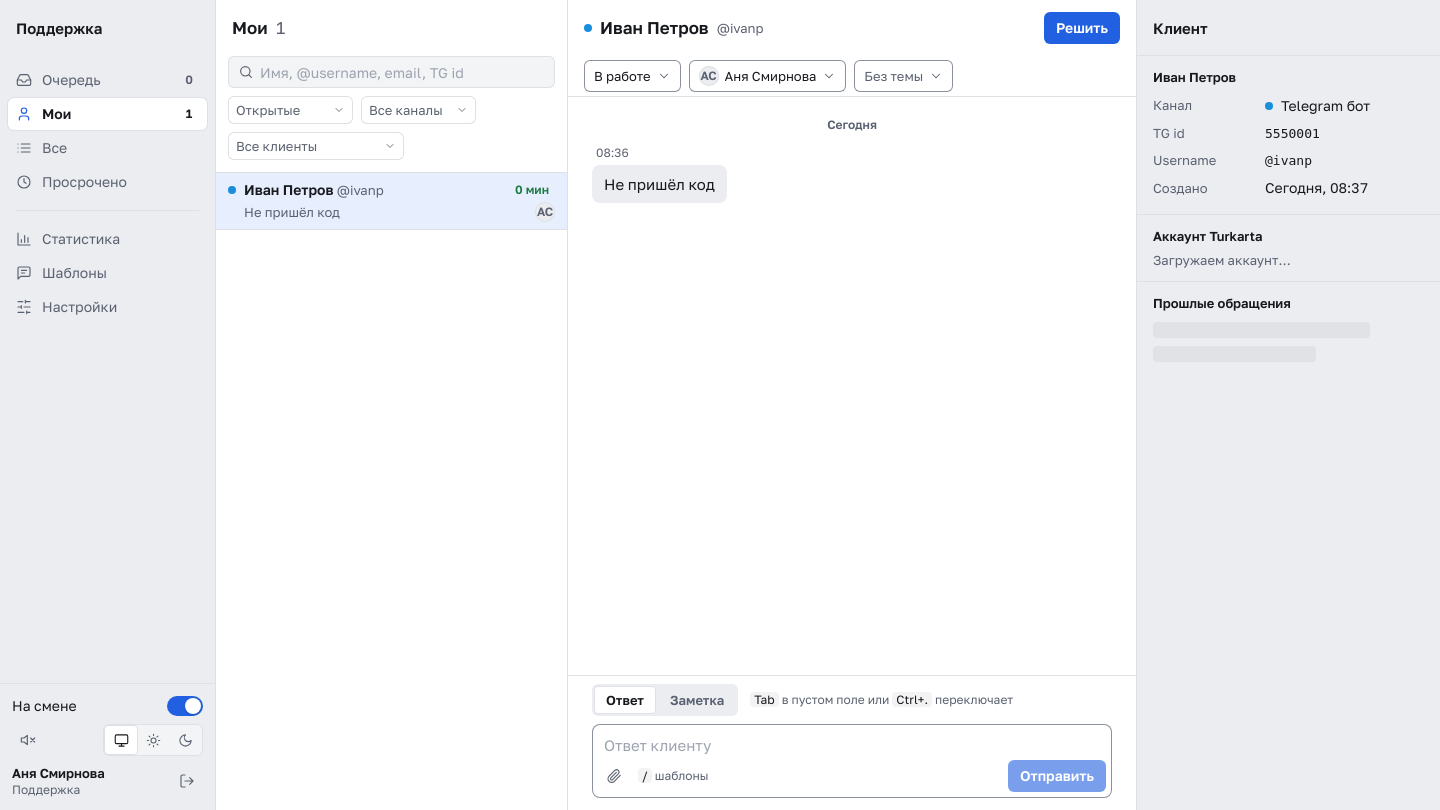
Test case: Composer › offers colleagues after @ in a note and inserts the full name
This screenshot has width=1440, height=810.
Expected: the list named "Переписка" is shown, 592,117 -> 877,203
Click the radio button labelled "Заметка": (697, 700) 658,686 -> 736,714
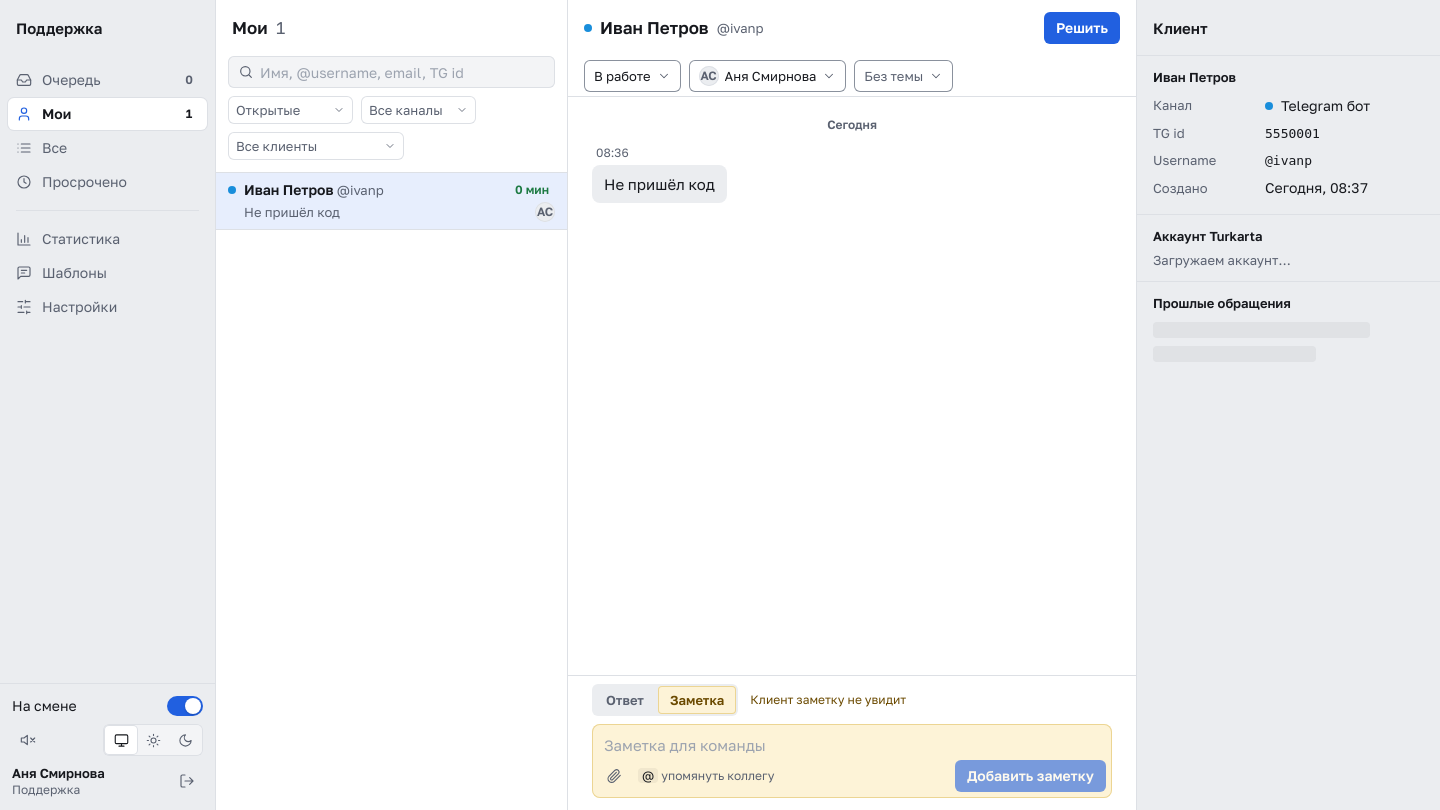
In the text box labelled "Заметка": (852, 742) 592,724 -> 1112,760, type "Глянь @Ол"
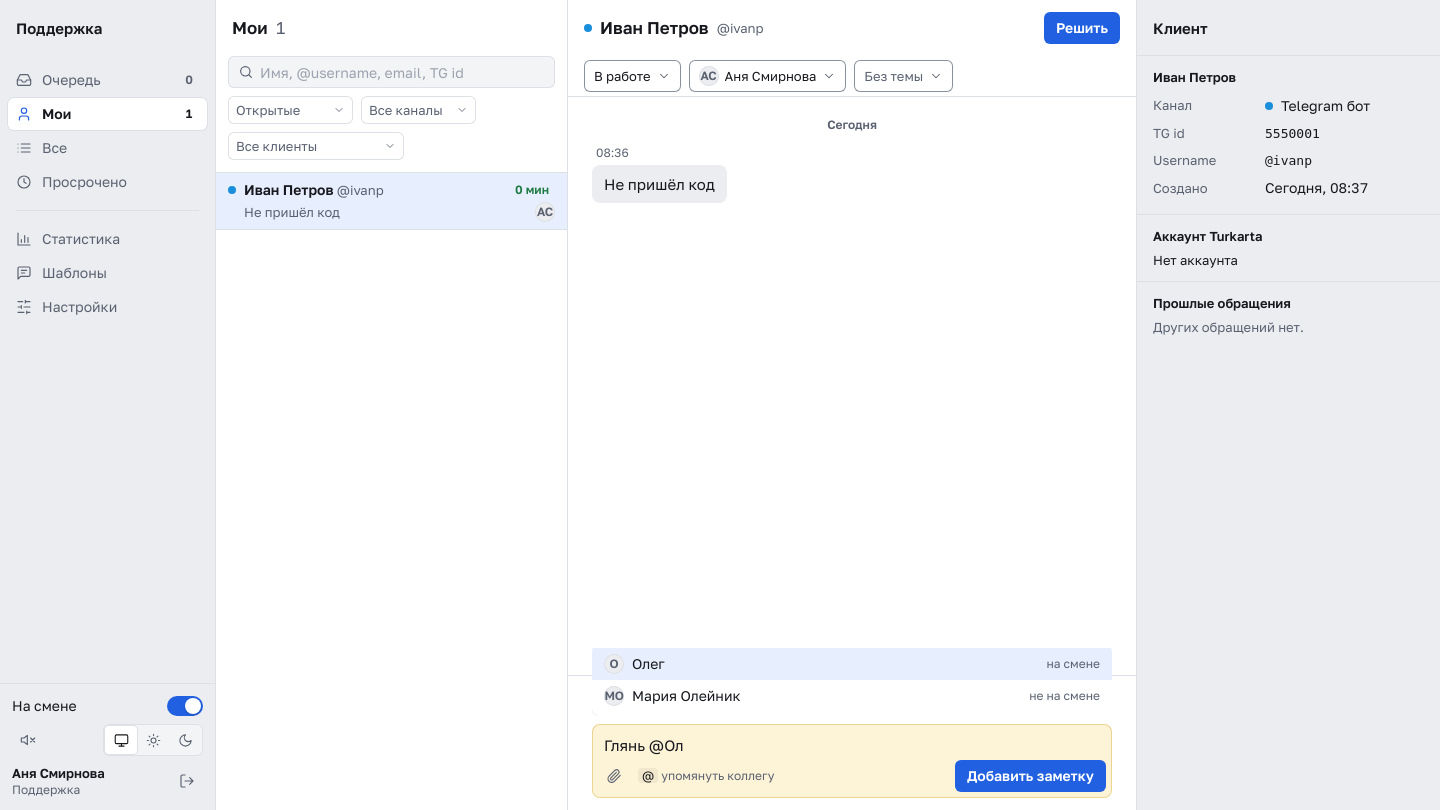
Expected: the options read "ООлегна смене", "МОМария Олейникне на смене", in this order, 592,648 -> 1112,680; 592,680 -> 1112,712
Press ArrowDown in the text box named "Заметка", box 592,724 -> 1112,760
Press Enter in the text box named "Заметка", box 592,724 -> 1112,760
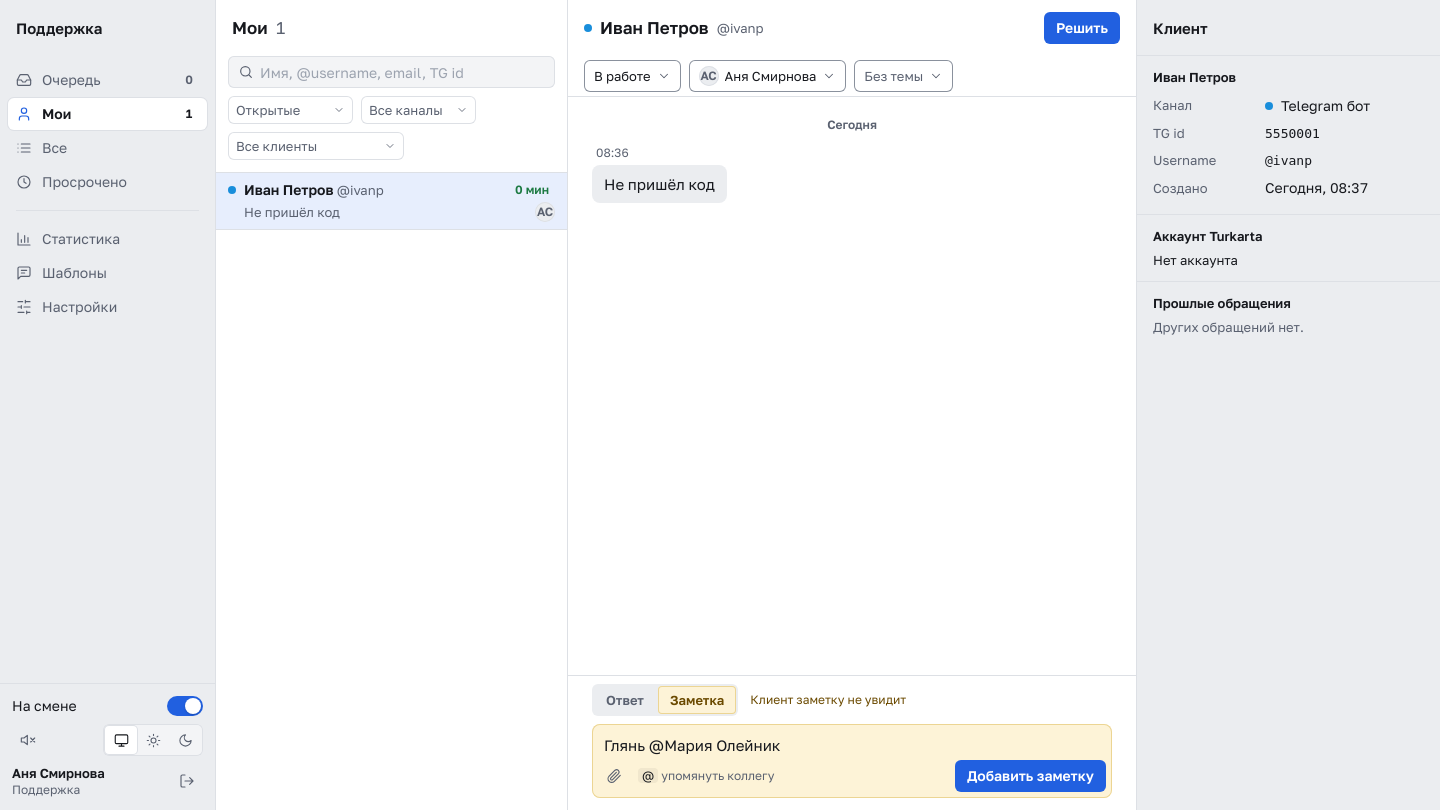
Expected: the text box named "Заметка" holds "Глянь @Мария Олейник ", 592,724 -> 1112,760
